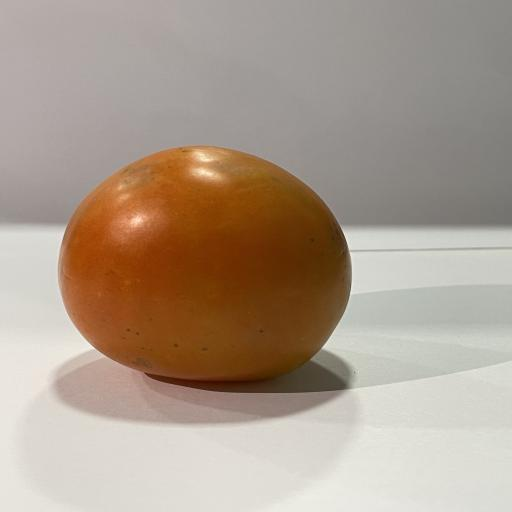unripe: (58, 146, 351, 381)
